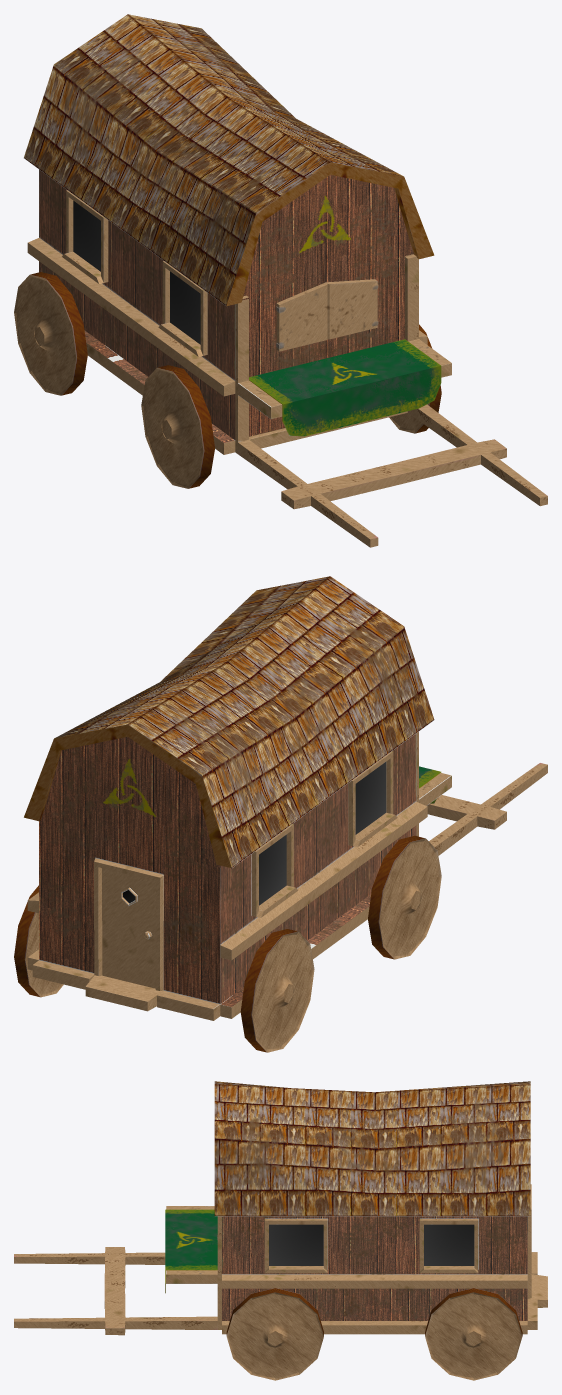
File: caravan.obj
3 renders of one model, top to bottom at view 1: azimuth 30°, elevation 25°; view 2: azimuth 150°, elevation 25°; view 3: azimuth 270°, elevation 25°, orthographic. The views are drawn at different scales.
Visible parts, largest first — view 1: caravan:Caravan caravan:transform1 caravan:polySurface1; view 2: caravan:Caravan caravan:transform1 caravan:polySurface1; view 3: caravan:Caravan caravan:transform1 caravan:polySurface1.
Boxes of the visible parts, x1=… form: caravan:Caravan caravan:transform1 caravan:polySurface1: x1=14, y1=14, x2=547, y2=547; caravan:Caravan caravan:transform1 caravan:polySurface1: x1=14, y1=576, x2=547, y2=1052; caravan:Caravan caravan:transform1 caravan:polySurface1: x1=14, y1=1081, x2=547, y2=1380.
Size of the model in its own units: 5.82 by 7.19 by 13.85.
